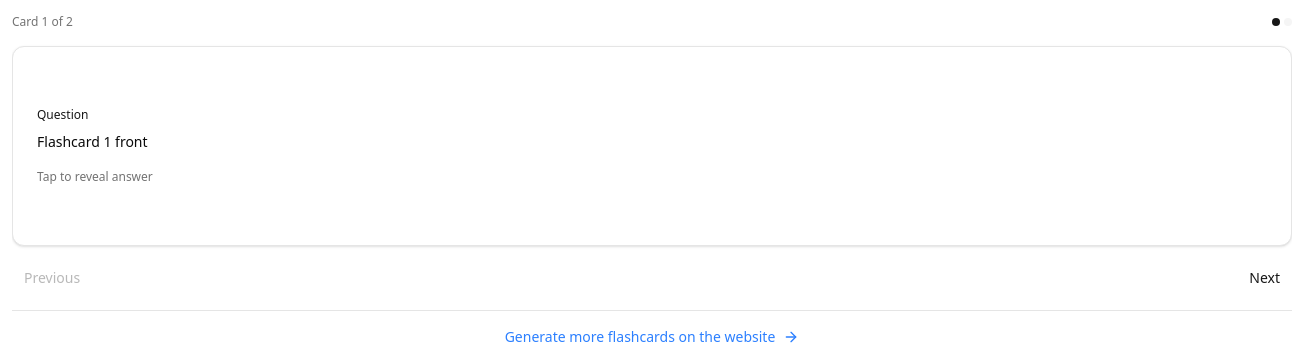
Test case: FlashcardView › navigation › shows Start Over button on last card
Click the button "Next".
click(1265, 278)  # box left=1237, top=262, right=1292, bottom=294
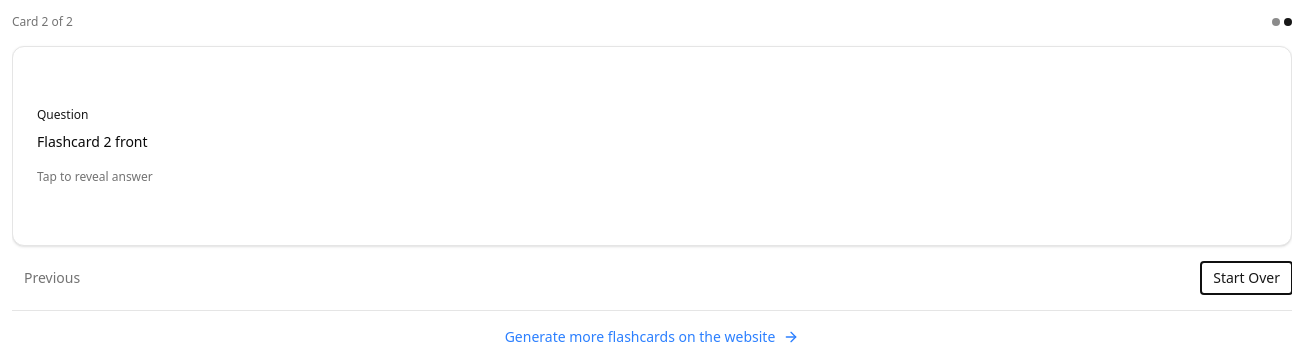
Expected: the button "Start Over" is shown, left=1201, top=262, right=1292, bottom=294
Expected: the button "Next" is gone
